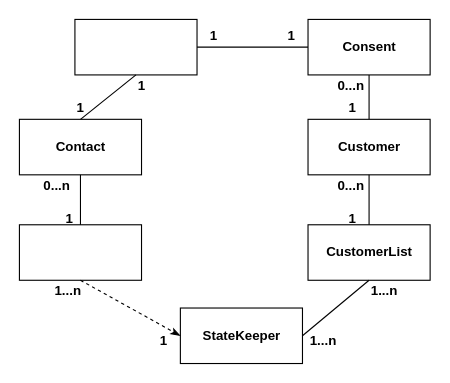
Some shapes in this 450 by 383 pixel diagram are drawn without their labels. Here are the shapes that lost their labels. From the top down, the centre of each, then its label:
the point at 135,46: Type
the point at 80,252: ContactList
